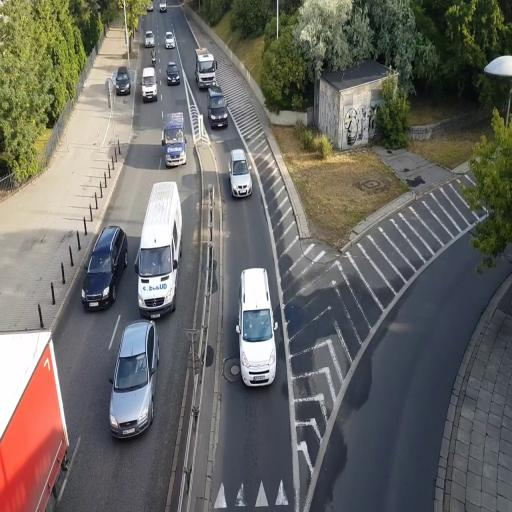vehicle: (0, 333, 70, 511), (136, 180, 182, 318), (109, 320, 159, 440), (238, 267, 277, 388), (80, 224, 128, 312), (162, 112, 187, 167), (229, 148, 252, 198), (207, 88, 229, 130), (114, 68, 132, 96), (142, 68, 157, 101), (165, 61, 181, 85), (164, 30, 175, 50)
